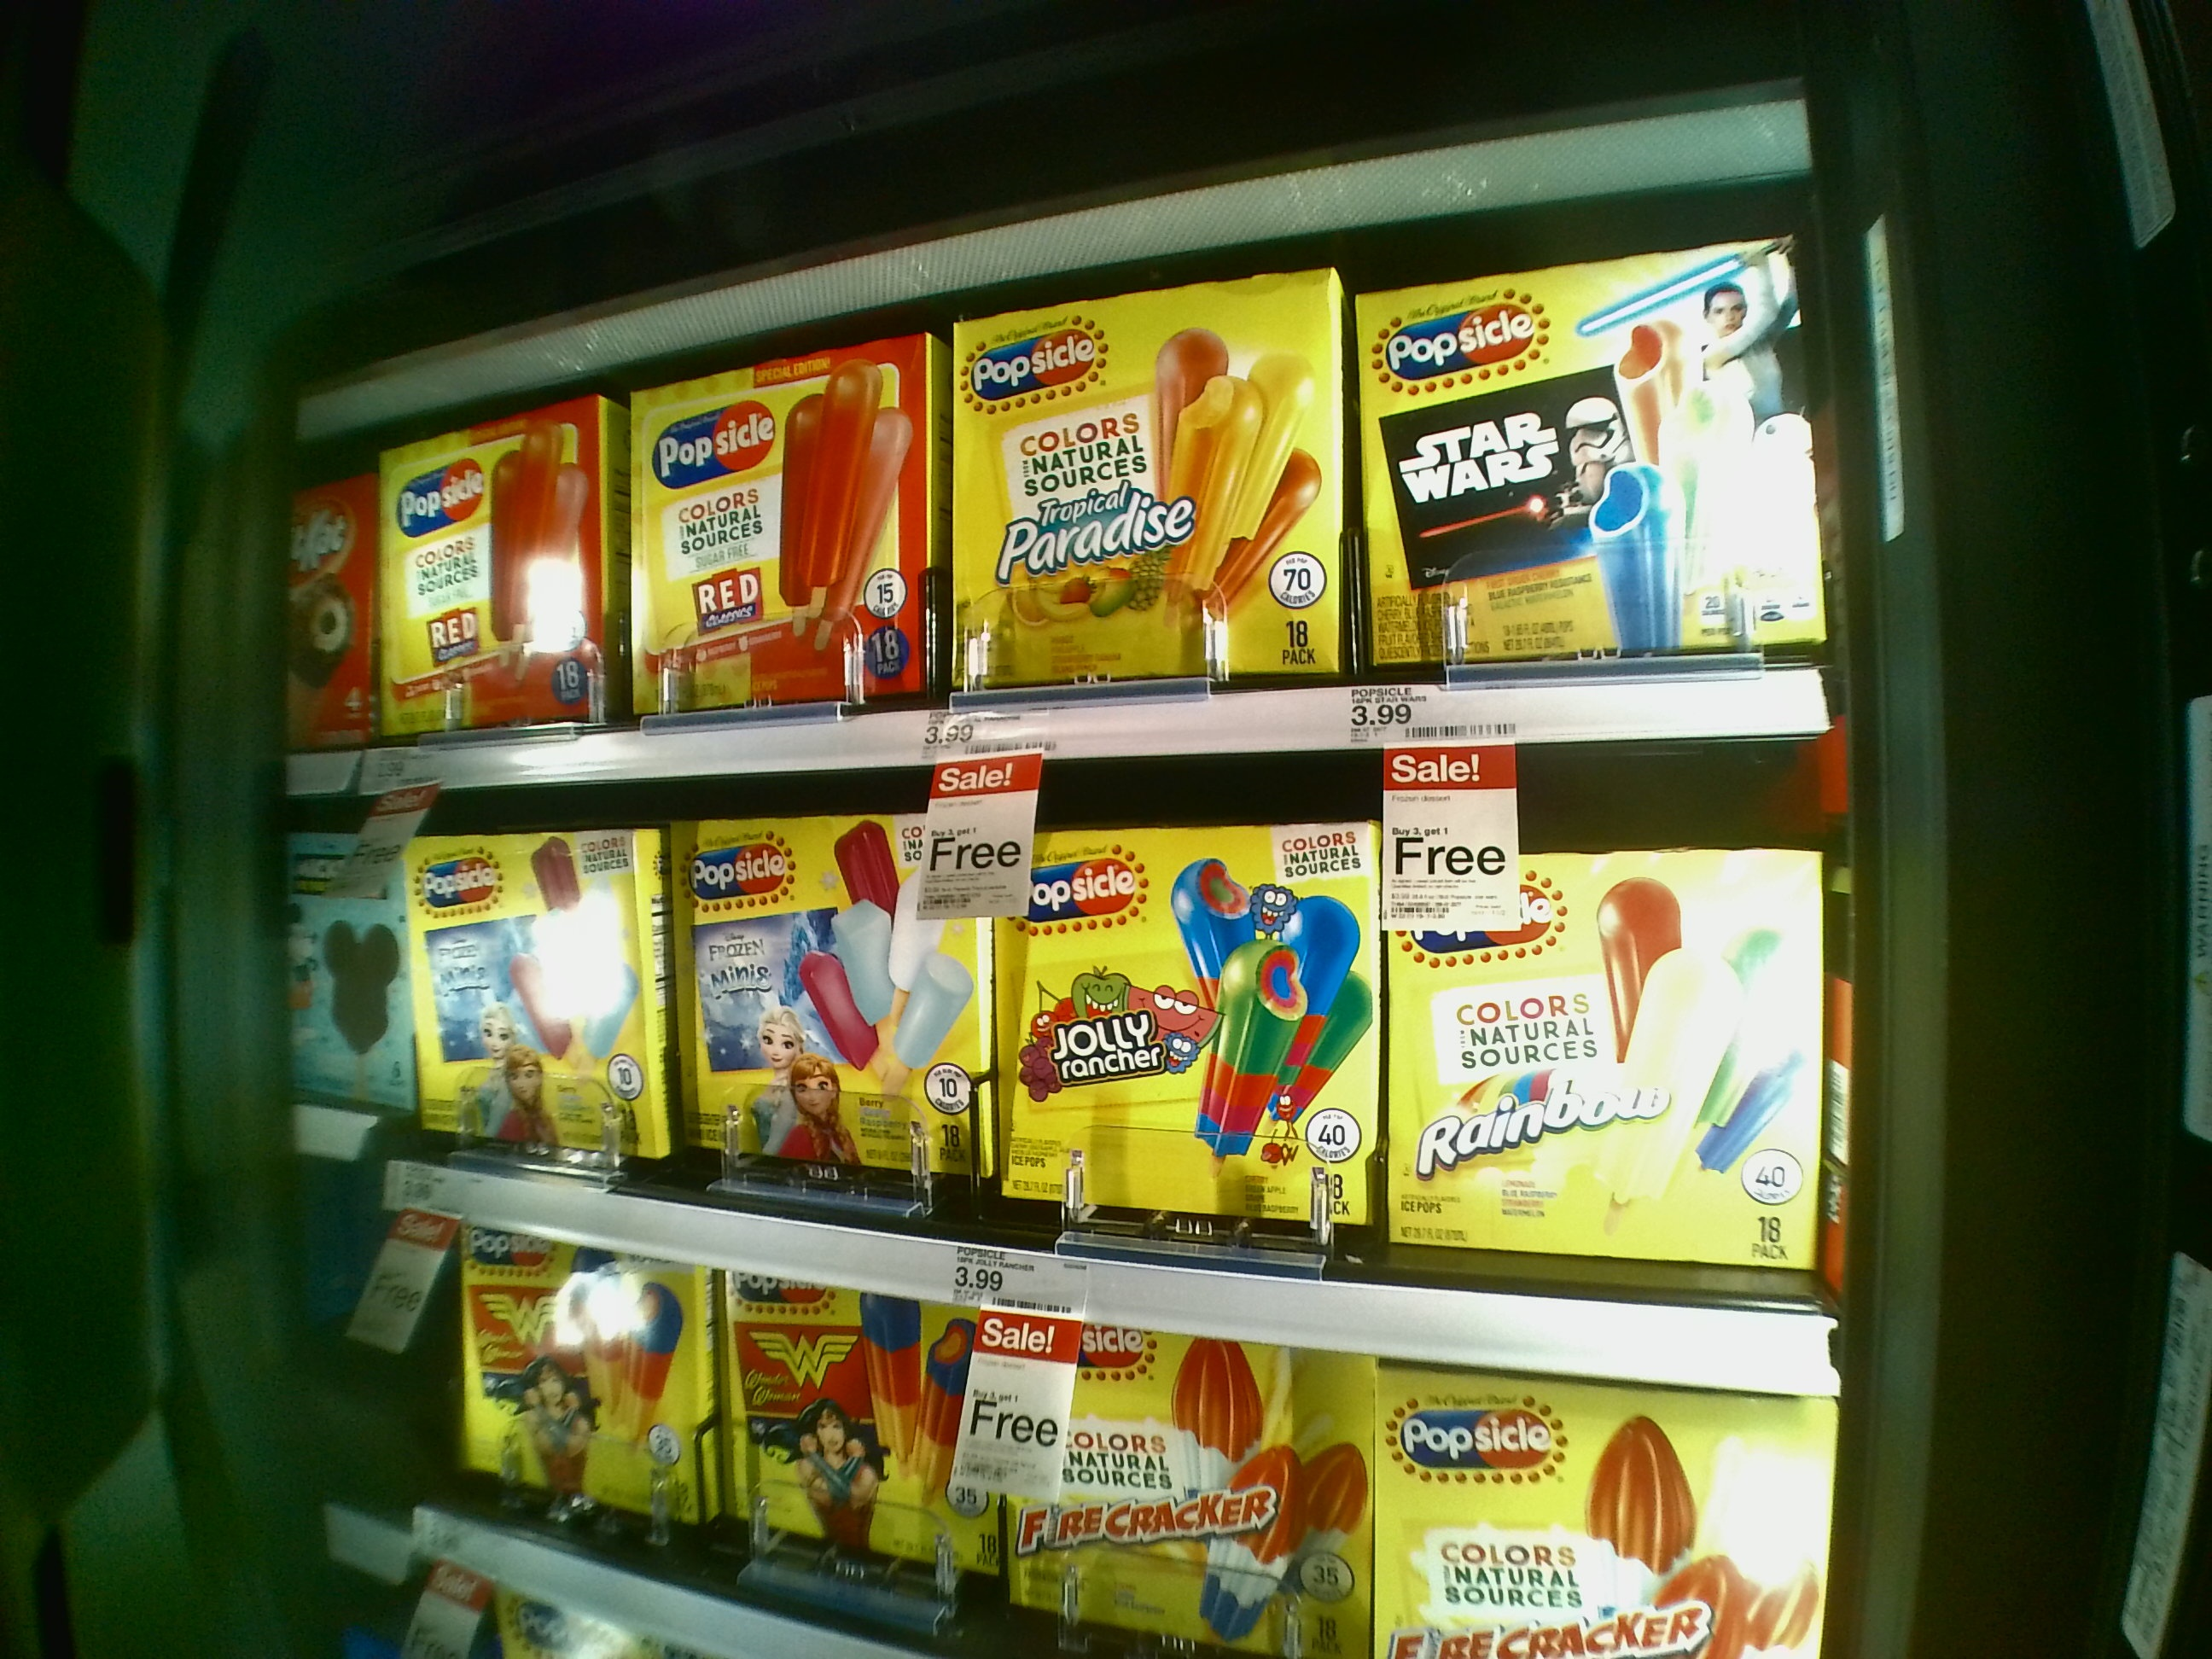shelf: (357, 242, 1855, 758), (402, 769, 1846, 1295), (434, 1229, 1827, 1659)
